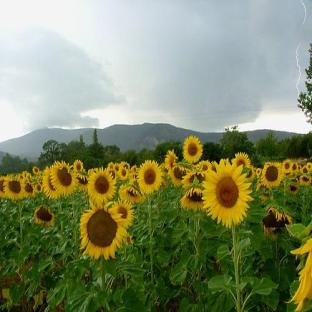sunflower: (202, 158, 253, 312)
